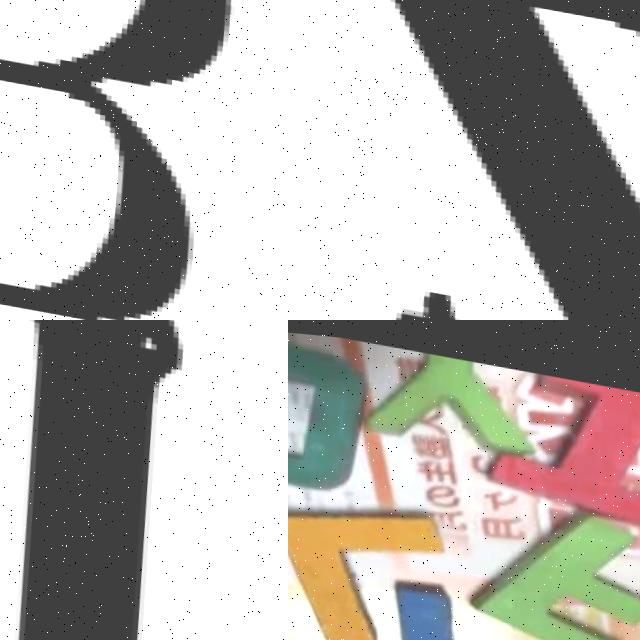D: (288, 320, 377, 490)
F: (459, 480, 640, 640)
I: (485, 354, 640, 516)
J: (0, 320, 215, 640)
L: (288, 473, 449, 640)
T: (342, 564, 521, 640)
Y: (347, 332, 521, 458)
Z: (310, 0, 640, 320)
